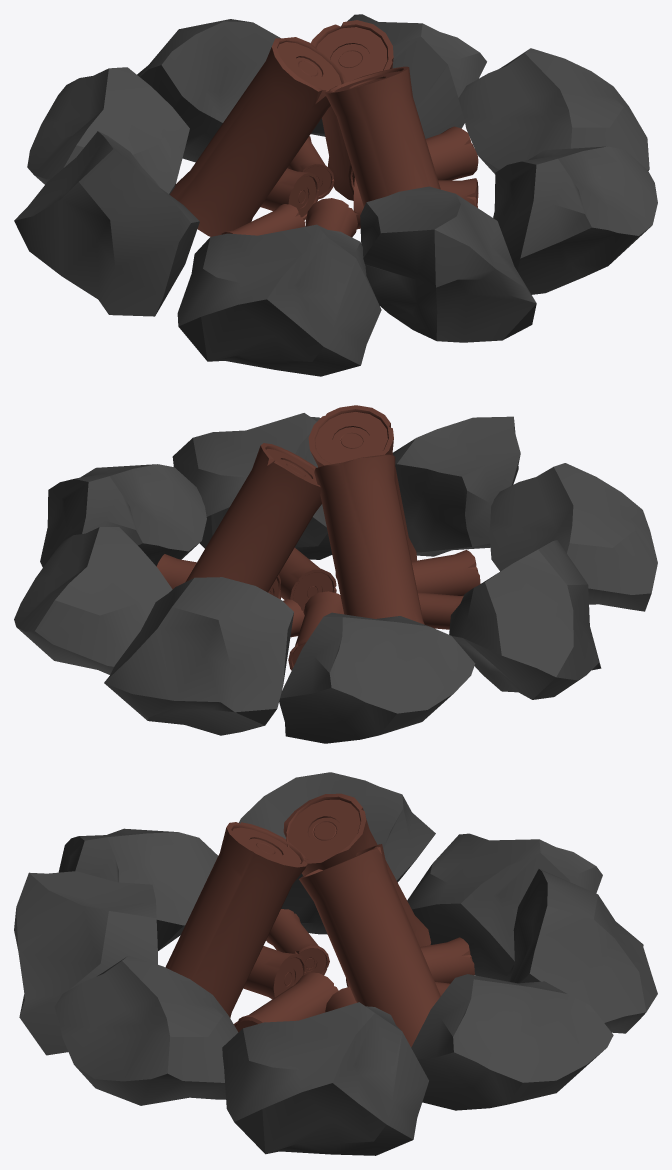
The model's file is Stylized_Campfire_LowPoly.fbx.
3 renders of one model, top to bottom at view 1: azimuth 30°, elevation 25°; view 2: azimuth 150°, elevation 25°; view 3: azimuth 270°, elevation 25°, orthographic. The views are drawn at different scales.
Parts seen in each view (by area): view 1: Campfire; view 2: Campfire; view 3: Campfire.
Boxes of the visible parts, x1,y1,x2,y2 form: Campfire: (14, 14, 657, 376); Campfire: (14, 405, 657, 743); Campfire: (14, 772, 657, 1155).
Size of the model in its own units: 214 by 77.31 by 208.
